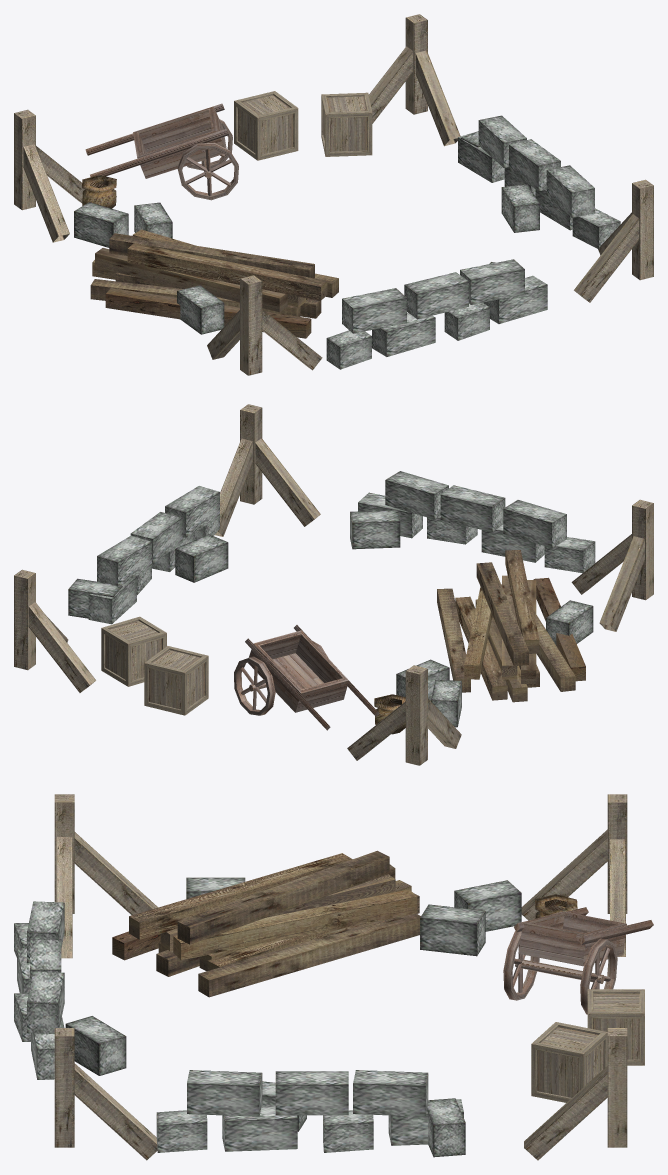
Rendered from fndn_3x3_tower.glb.
The picture shows the model from 3 angles, top to bottom: view 1: azimuth 30°, elevation 25°; view 2: azimuth 150°, elevation 25°; view 3: azimuth 270°, elevation 25°; orthographic projection. The views are drawn at different scales.
Visible parts, largest first — view 1: fndn_3x3_tower_part1, fndn_3x3_tower_part15, fndn_3x3_tower_part16, fndn_3x3_tower_part10, fndn_3x3_tower_part5, fndn_3x3_tower_part6, fndn_3x3_tower_part8, fndn_3x3_tower_part7, fndn_3x3_tower_part2, fndn_3x3_tower_part17, fndn_3x3_tower_part9, fndn_3x3_tower_part11 (+3 smaller); view 2: fndn_3x3_tower_part1, fndn_3x3_tower_part15, fndn_3x3_tower_part16, fndn_3x3_tower_part10, fndn_3x3_tower_part7, fndn_3x3_tower_part8, fndn_3x3_tower_part6, fndn_3x3_tower_part5, fndn_3x3_tower_part2, fndn_3x3_tower_part17, fndn_3x3_tower_part13, fndn_3x3_tower_part12 (+5 smaller); view 3: fndn_3x3_tower_part1, fndn_3x3_tower_part16, fndn_3x3_tower_part10, fndn_3x3_tower_part15, fndn_3x3_tower_part8, fndn_3x3_tower_part7, fndn_3x3_tower_part5, fndn_3x3_tower_part17, fndn_3x3_tower_part6, fndn_3x3_tower_part2, fndn_3x3_tower_part4, fndn_3x3_tower_part12 (+4 smaller).
Boxes of the visible parts, x1=… form: fndn_3x3_tower_part1: x1=90, y1=229, x2=338, y2=338; fndn_3x3_tower_part15: x1=326, y1=259, x2=547, y2=369; fndn_3x3_tower_part16: x1=458, y1=115, x2=620, y2=249; fndn_3x3_tower_part10: x1=85, y1=103, x2=238, y2=200; fndn_3x3_tower_part5: x1=369, y1=14, x2=460, y2=146; fndn_3x3_tower_part6: x1=14, y1=109, x2=84, y2=242; fndn_3x3_tower_part8: x1=207, y1=275, x2=322, y2=375; fndn_3x3_tower_part7: x1=574, y1=179, x2=653, y2=302; fndn_3x3_tower_part2: x1=234, y1=91, x2=298, y2=160; fndn_3x3_tower_part17: x1=321, y1=92, x2=372, y2=156; fndn_3x3_tower_part9: x1=74, y1=202, x2=128, y2=247; fndn_3x3_tower_part11: x1=177, y1=285, x2=224, y2=334; fndn_3x3_tower_part1: x1=437, y1=550, x2=585, y2=702; fndn_3x3_tower_part15: x1=358, y1=471, x2=595, y2=573; fndn_3x3_tower_part16: x1=88, y1=486, x2=219, y2=624; fndn_3x3_tower_part10: x1=234, y1=625, x2=379, y2=730; fndn_3x3_tower_part7: x1=215, y1=404, x2=320, y2=536; fndn_3x3_tower_part8: x1=571, y1=499, x2=653, y2=631; fndn_3x3_tower_part6: x1=347, y1=665, x2=461, y2=765; fndn_3x3_tower_part5: x1=14, y1=569, x2=95, y2=692; fndn_3x3_tower_part2: x1=144, y1=646, x2=208, y2=715; fndn_3x3_tower_part17: x1=101, y1=616, x2=166, y2=686; fndn_3x3_tower_part13: x1=175, y1=534, x2=228, y2=582; fndn_3x3_tower_part12: x1=350, y1=510, x2=400, y2=549; fndn_3x3_tower_part1: x1=112, y1=850, x2=420, y2=997; fndn_3x3_tower_part16: x1=156, y1=1070, x2=463, y2=1152; fndn_3x3_tower_part10: x1=503, y1=907, x2=653, y2=1014; fndn_3x3_tower_part15: x1=14, y1=901, x2=64, y2=1079; fndn_3x3_tower_part8: x1=54, y1=794, x2=157, y2=958; fndn_3x3_tower_part7: x1=54, y1=1028, x2=157, y2=1160; fndn_3x3_tower_part5: x1=524, y1=1028, x2=627, y2=1160; fndn_3x3_tower_part17: x1=531, y1=1022, x2=607, y2=1102; fndn_3x3_tower_part6: x1=521, y1=794, x2=627, y2=956; fndn_3x3_tower_part2: x1=587, y1=989, x2=644, y2=1065; fndn_3x3_tower_part4: x1=420, y1=904, x2=485, y2=956; fndn_3x3_tower_part12: x1=65, y1=1016, x2=126, y2=1075.
Size of the model in its own units: 2.97 by 0.971 by 2.92.
4 materials, 4 textured.
